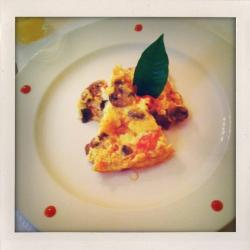apple_pie: (70, 57, 194, 172)
